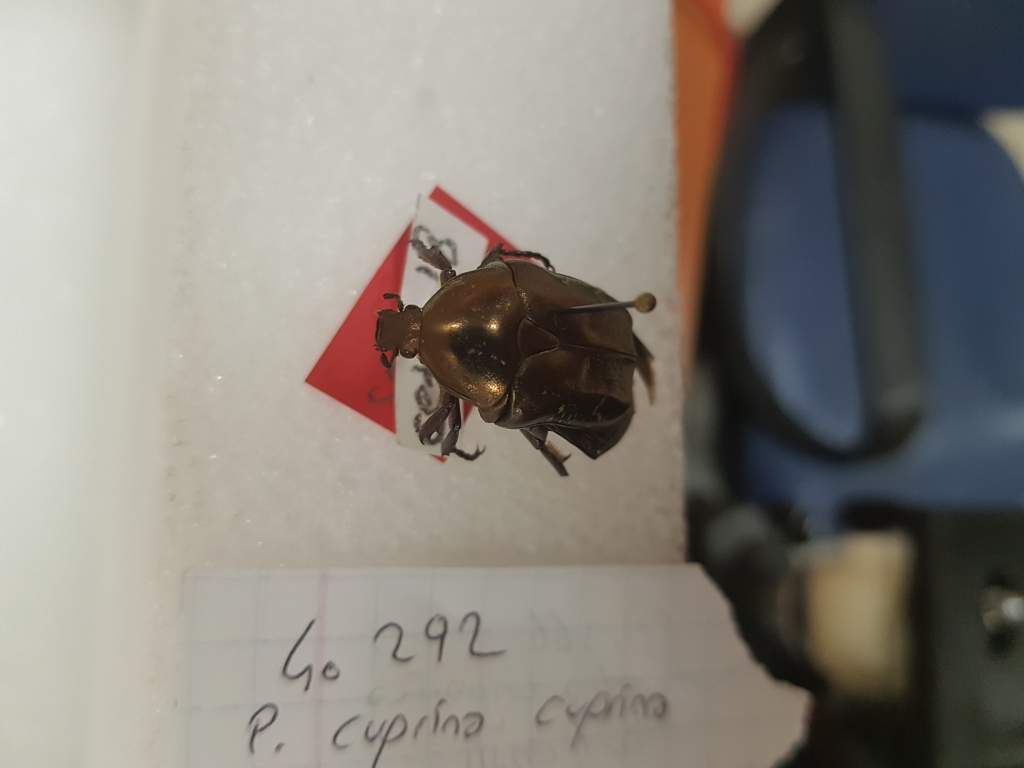Protaetia_cuprina_cuprina: (351, 227, 661, 481)
